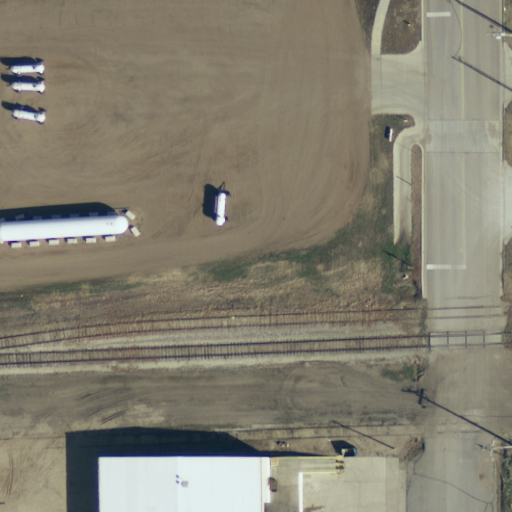DT: (480, 433, 509, 463)
